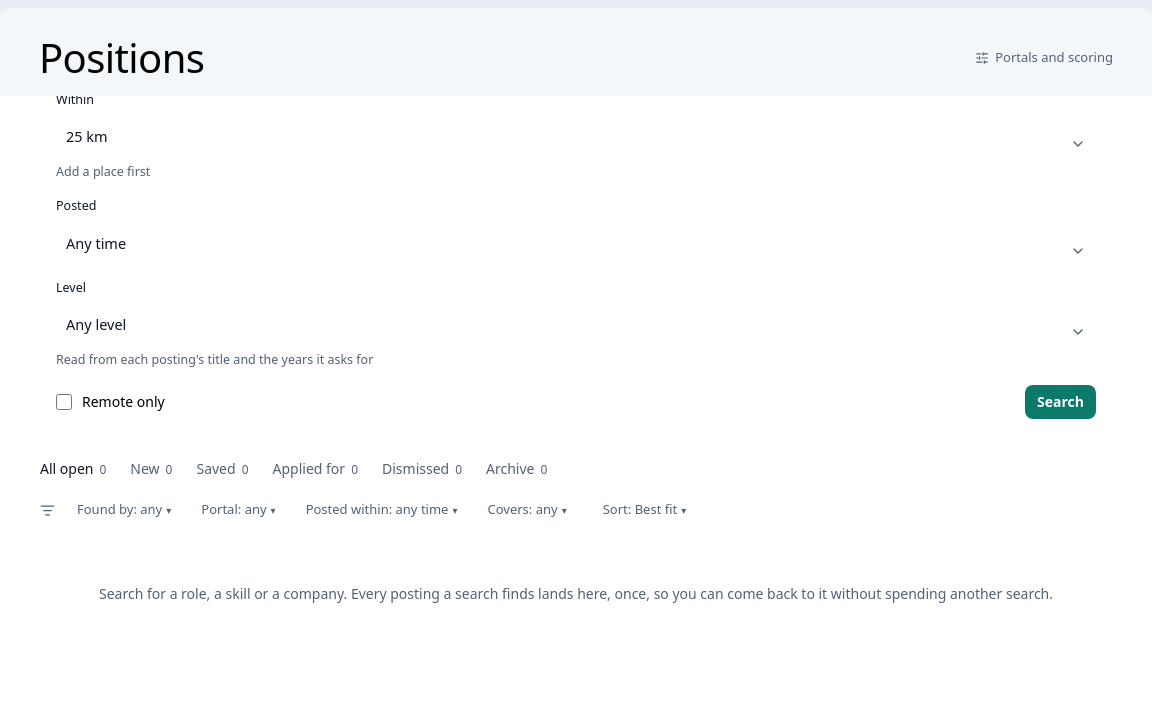
Test: the search form › asks for keywords and a country first
The width and height of the screenshot is (1152, 720).
(page scrolled)
Click the button "Search".
click(1061, 402)  # box 1025,385 -> 1096,419
(page scrolled)
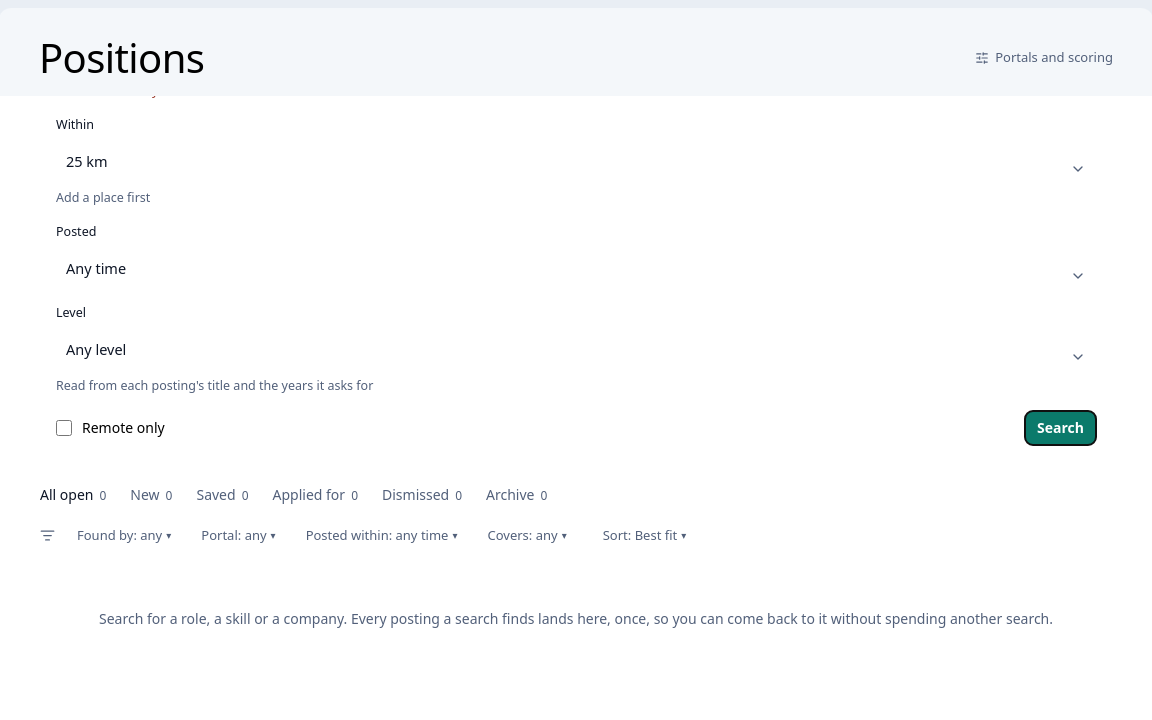
Check: the dropdown labelled "Within" is disabled, box 56,141 -> 1096,182
Check: the text "Choose a country." is shown, box 56,82 -> 161,99
